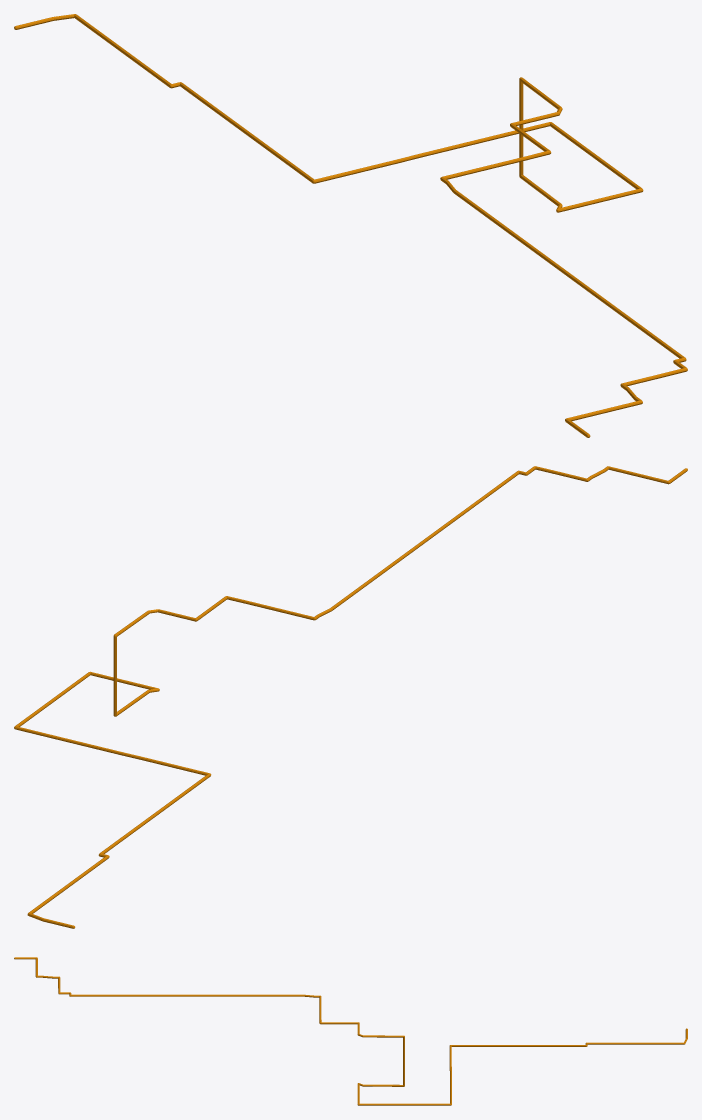
3 views of the same model, one above another, from view 1: azimuth 30°, elevation 25°; view 2: azimuth 150°, elevation 25°; view 3: azimuth 270°, elevation 25° (orthographic). The views are drawn at different scales.
Size of the model in its own units: 2131 by 520 by 6201.
